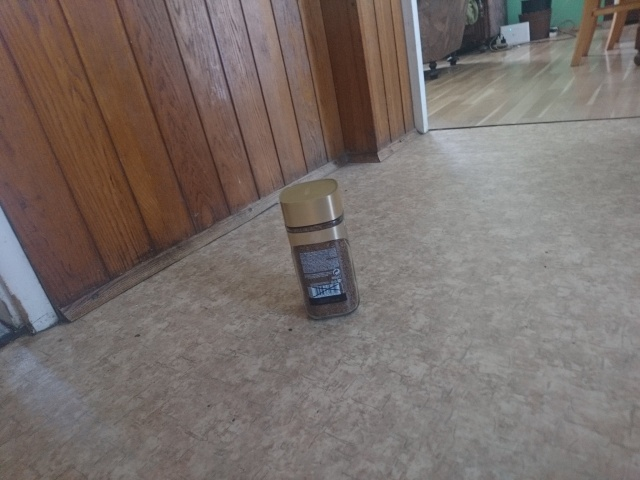Nescafe Gold 225g: (277, 176, 362, 323)
